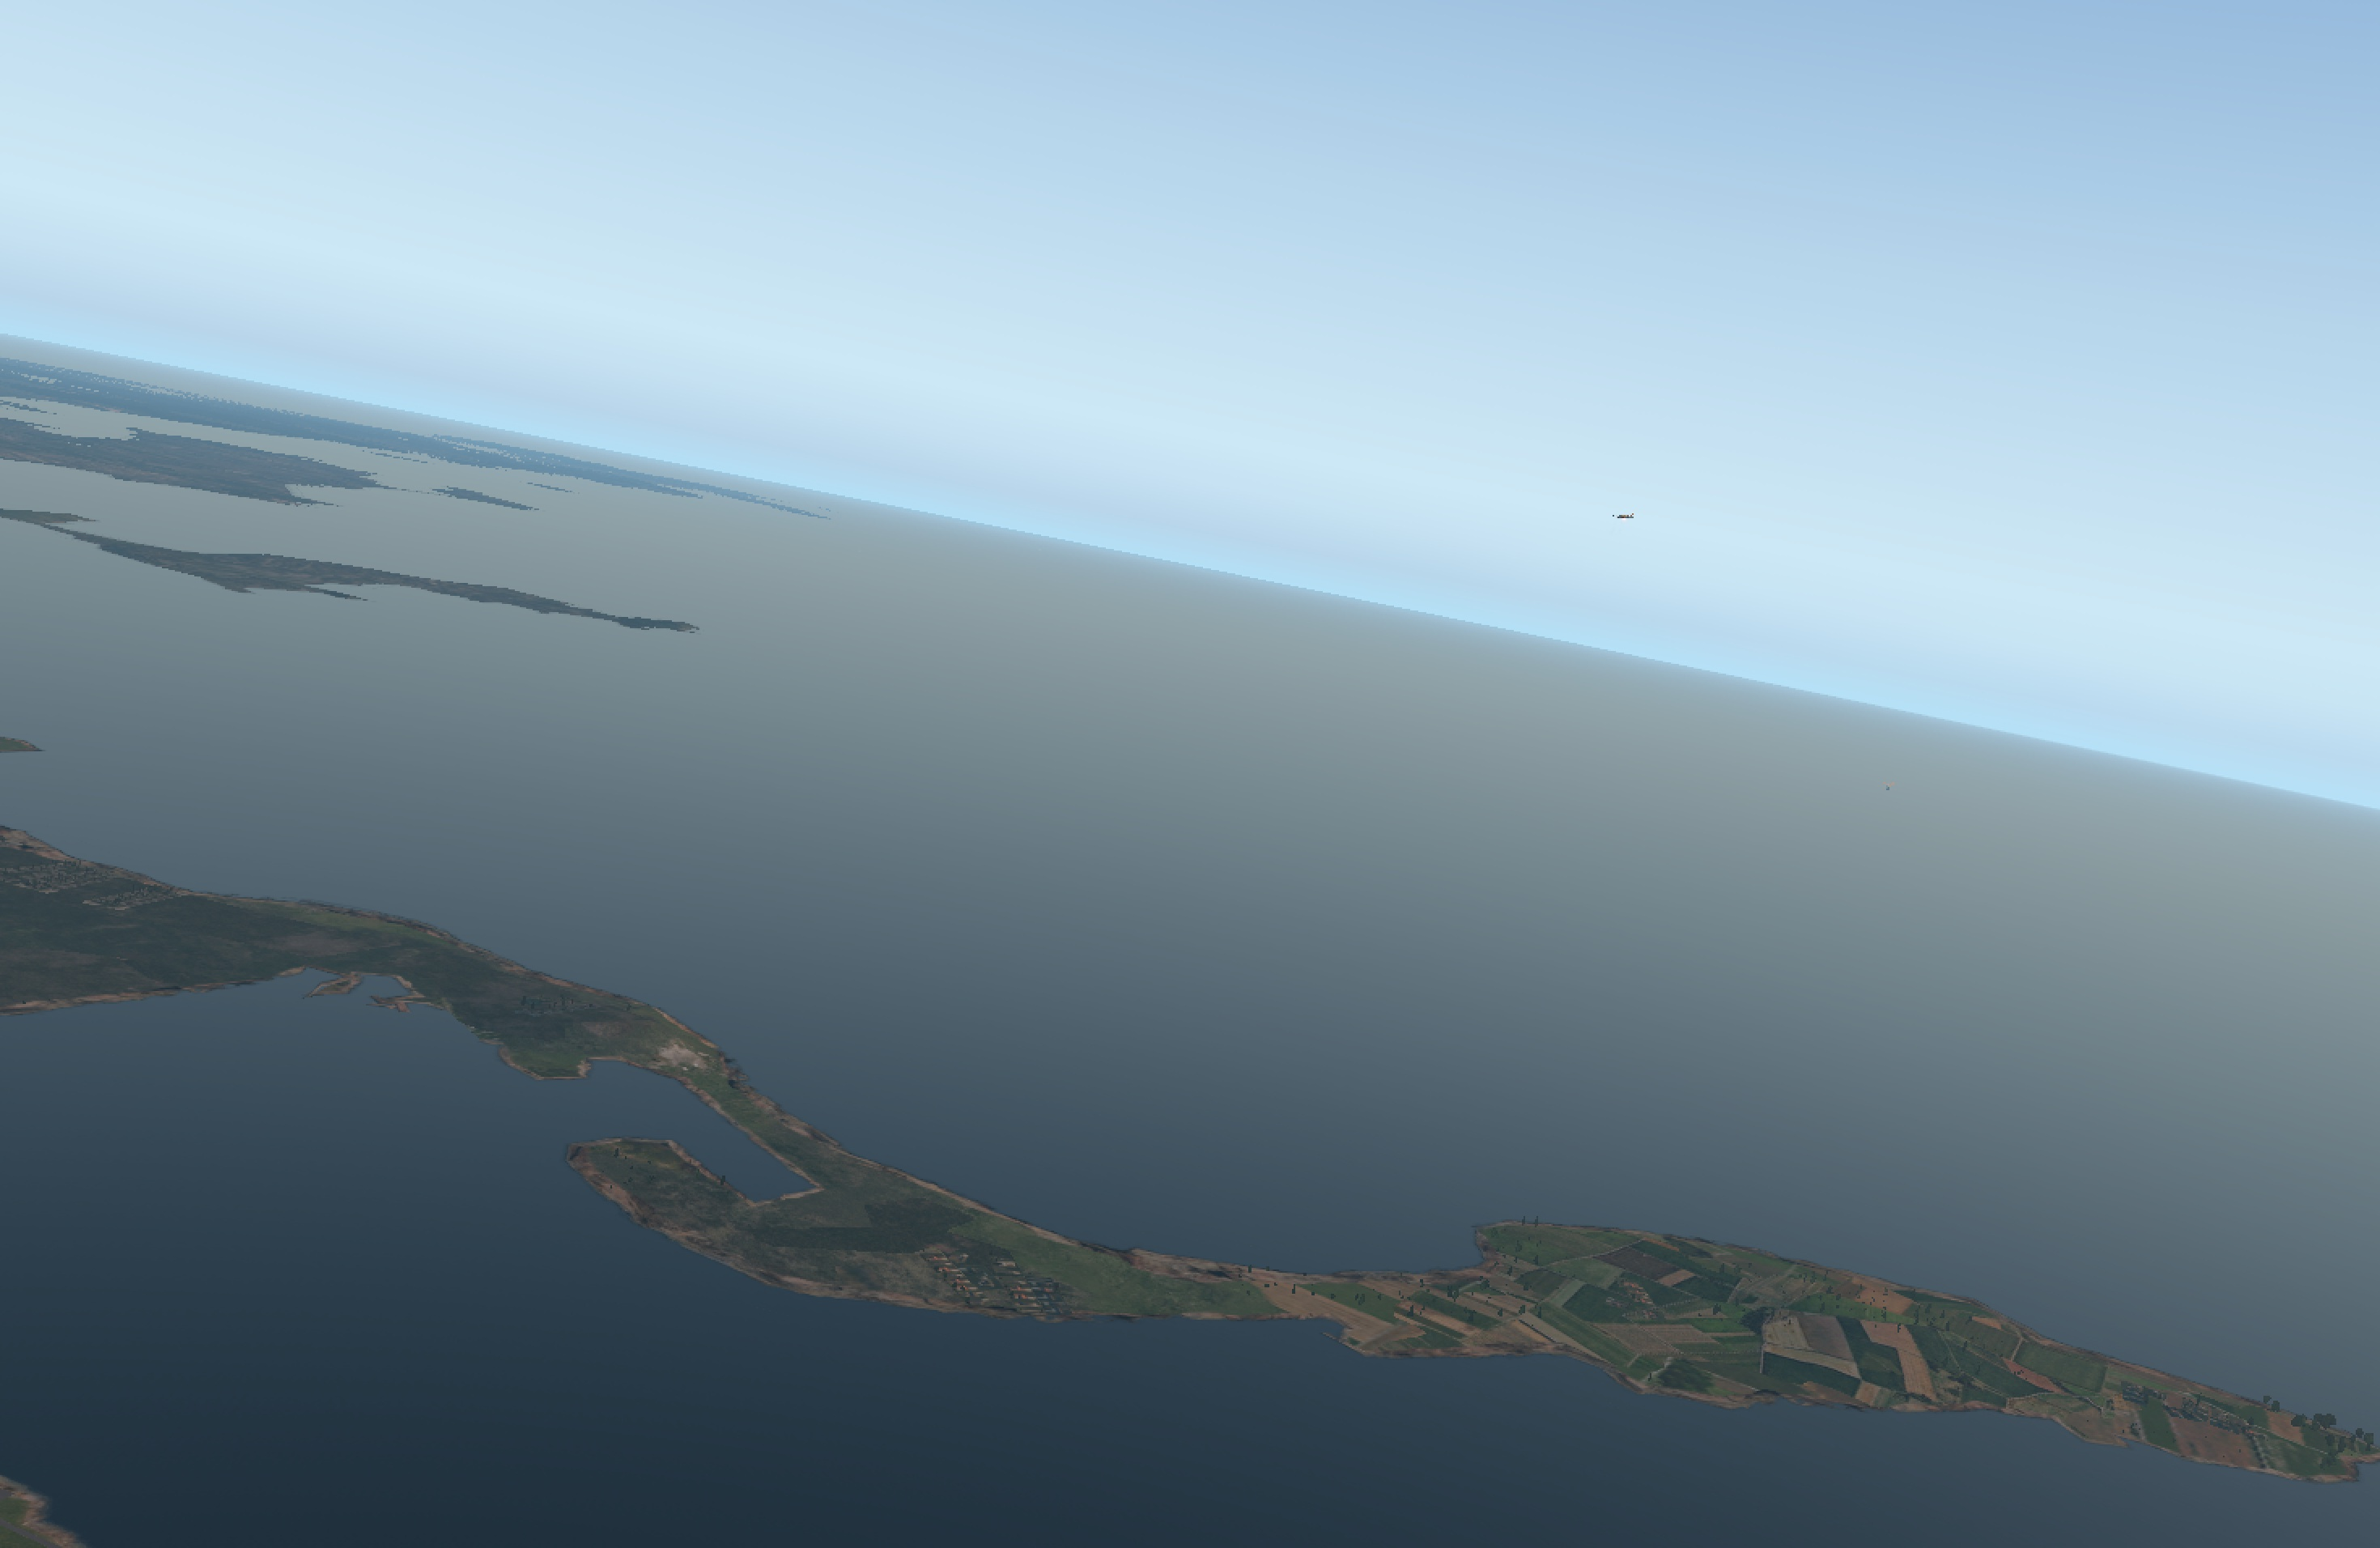aircraft: (1608, 512, 1638, 524)
